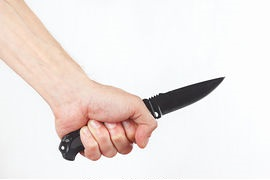knife: (94, 72, 229, 150)
